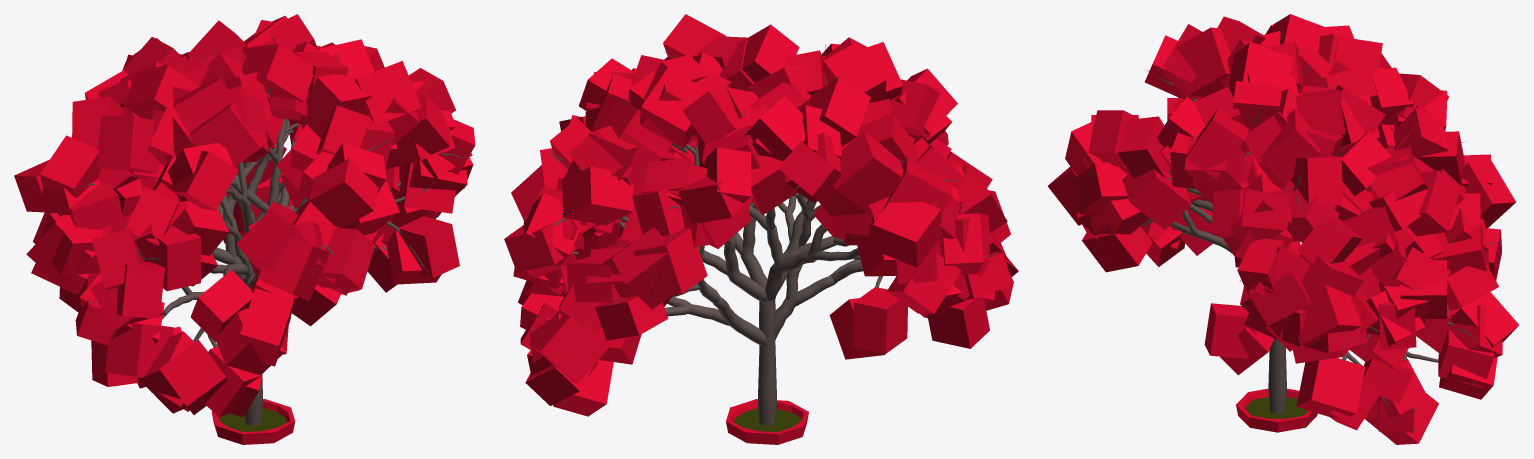
Rendered from Decor1.fbx.
The picture shows the model from 3 angles, left to right: view 1: azimuth 30°, elevation 25°; view 2: azimuth 150°, elevation 25°; view 3: azimuth 270°, elevation 25°; orthographic projection. The views are drawn at different scales.
Visible parts, largest first — view 1: Cube.102; view 2: Cube.102; view 3: Cube.102.
Part boxes in pixels (x1,y1,x2,y2): Cube.102: [14, 14, 475, 444]; Cube.102: [504, 14, 1018, 444]; Cube.102: [1048, 14, 1518, 444].
Size of the model in its own units: 1265 by 1058 by 1195.
